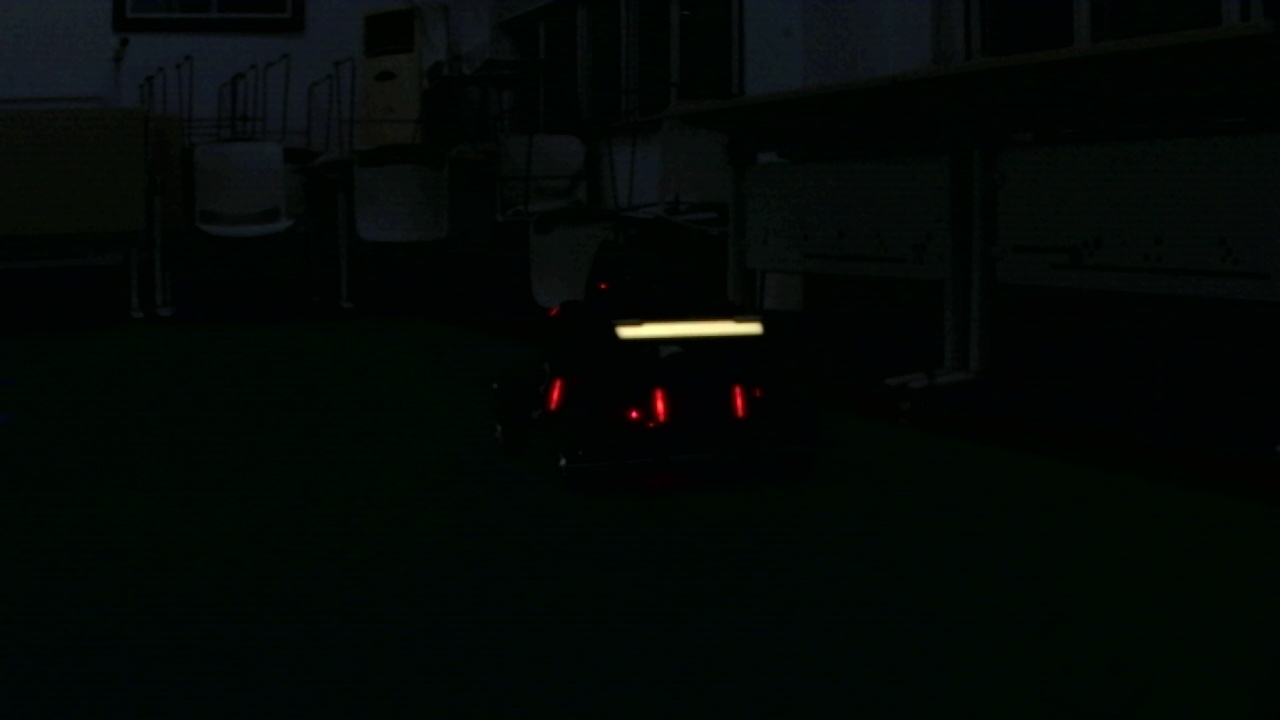lamp: (728, 383, 749, 419), (651, 381, 666, 425), (549, 376, 567, 411)
pair1: (655, 389, 747, 416)
